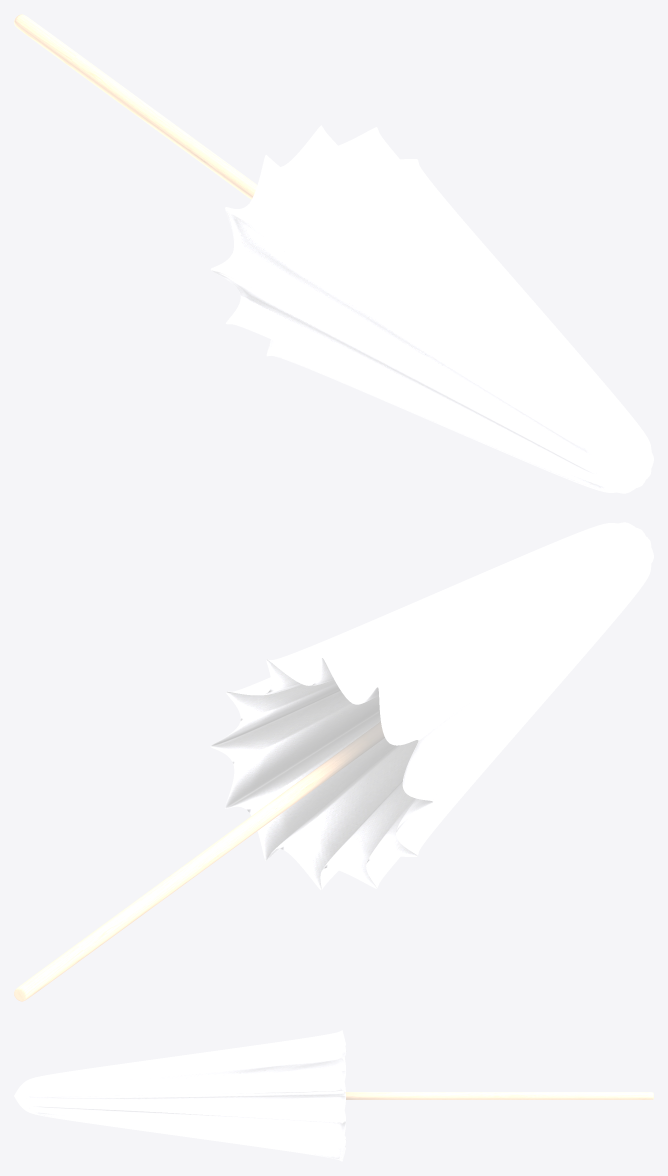
Rendered from sunbrella2.gltf.
The picture shows the model from 3 angles, top to bottom: view 1: azimuth 30°, elevation 25°; view 2: azimuth 150°, elevation 25°; view 3: azimuth 270°, elevation 25°; orthographic projection. The views are drawn at different scales.
Visible parts, largest first — view 1: 10242_Patio_Umbrella_Closed_v1_Iterations3; view 2: 10242_Patio_Umbrella_Closed_v1_Iterations3; view 3: 10242_Patio_Umbrella_Closed_v1_Iterations3.
Boxes of the visible parts, x1,y1,x2,y2 form: 10242_Patio_Umbrella_Closed_v1_Iterations3: [14, 14, 653, 493]; 10242_Patio_Umbrella_Closed_v1_Iterations3: [14, 522, 653, 1001]; 10242_Patio_Umbrella_Closed_v1_Iterations3: [14, 1030, 653, 1161].
Size of the model in its own units: 56.78 by 56.8 by 274.
1 material, 1 textured.
